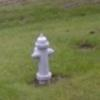a fire hydrant: (30, 33, 55, 80)
